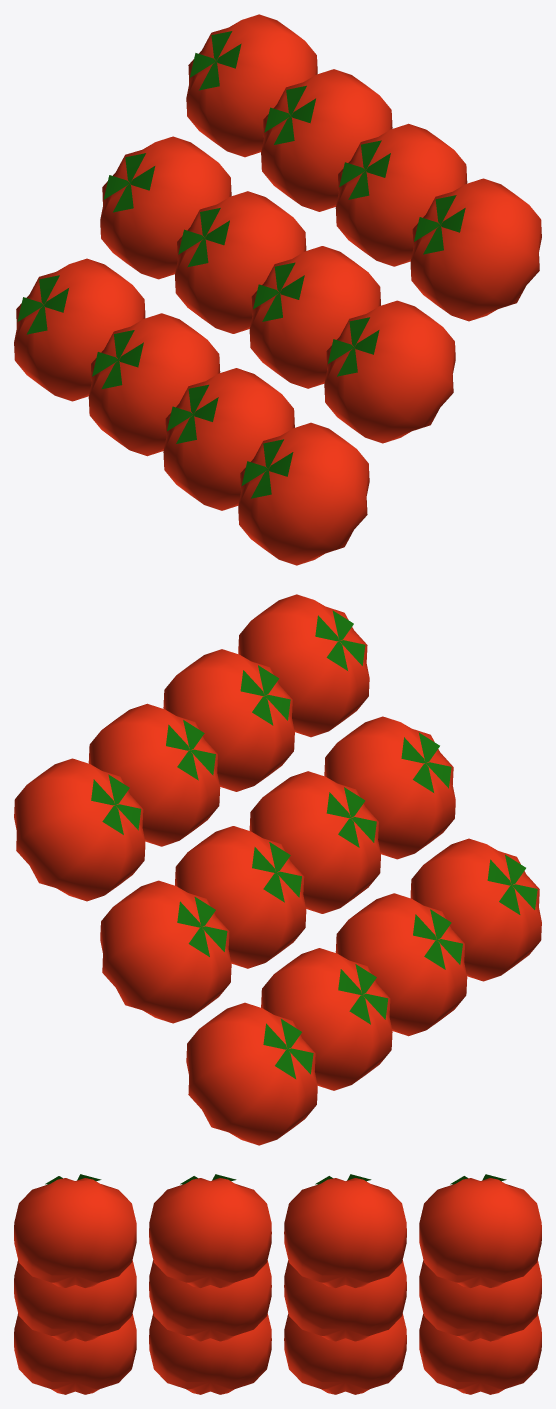
File: food-skewer-3.glb
3 renders of one model, top to bottom at view 1: azimuth 30°, elevation 25°; view 2: azimuth 150°, elevation 25°; view 3: azimuth 270°, elevation 25°, orthographic. The views are drawn at different scales.
Parts seen in each view (by area): view 1: Object_55; view 2: Object_55; view 3: Object_55.
Part boxes in pixels (left/top/right/bottom): Object_55: left=14, top=14, right=541, bottom=565; Object_55: left=14, top=594, right=541, bottom=1145; Object_55: left=14, top=1174, right=541, bottom=1394.
Bounding box in the file's own units: 0.327 × 0.3515 × 0.5822.
1 material, 1 textured.
